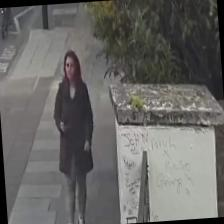person: (47, 47, 99, 224)
